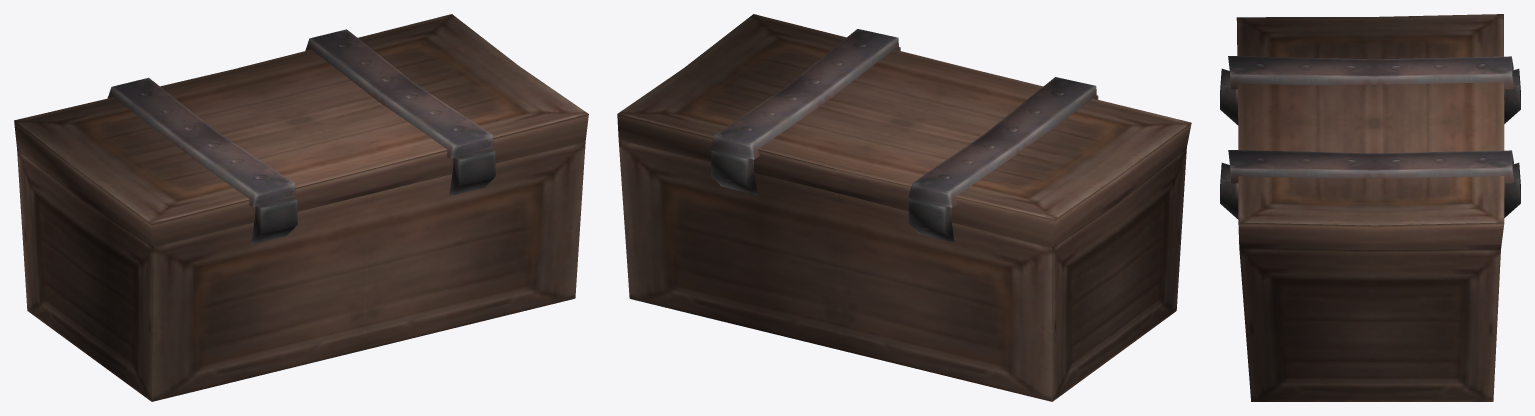
File: FB6_jiumuxiang_3.FBX
The picture shows the model from 3 angles, left to right: view 1: azimuth 30°, elevation 25°; view 2: azimuth 150°, elevation 25°; view 3: azimuth 270°, elevation 25°; orthographic projection. The views are drawn at different scales.
Visible parts, largest first — view 1: FB6_jiumuxiang_3; view 2: FB6_jiumuxiang_3; view 3: FB6_jiumuxiang_3.
Boxes of the visible parts, box(x1,y1,x2,y2) form: FB6_jiumuxiang_3: box(14, 14, 588, 401); FB6_jiumuxiang_3: box(617, 14, 1191, 401); FB6_jiumuxiang_3: box(1220, 14, 1520, 401).
Size of the model in its own units: 182 by 77.19 by 111.
1 material, 1 textured.
